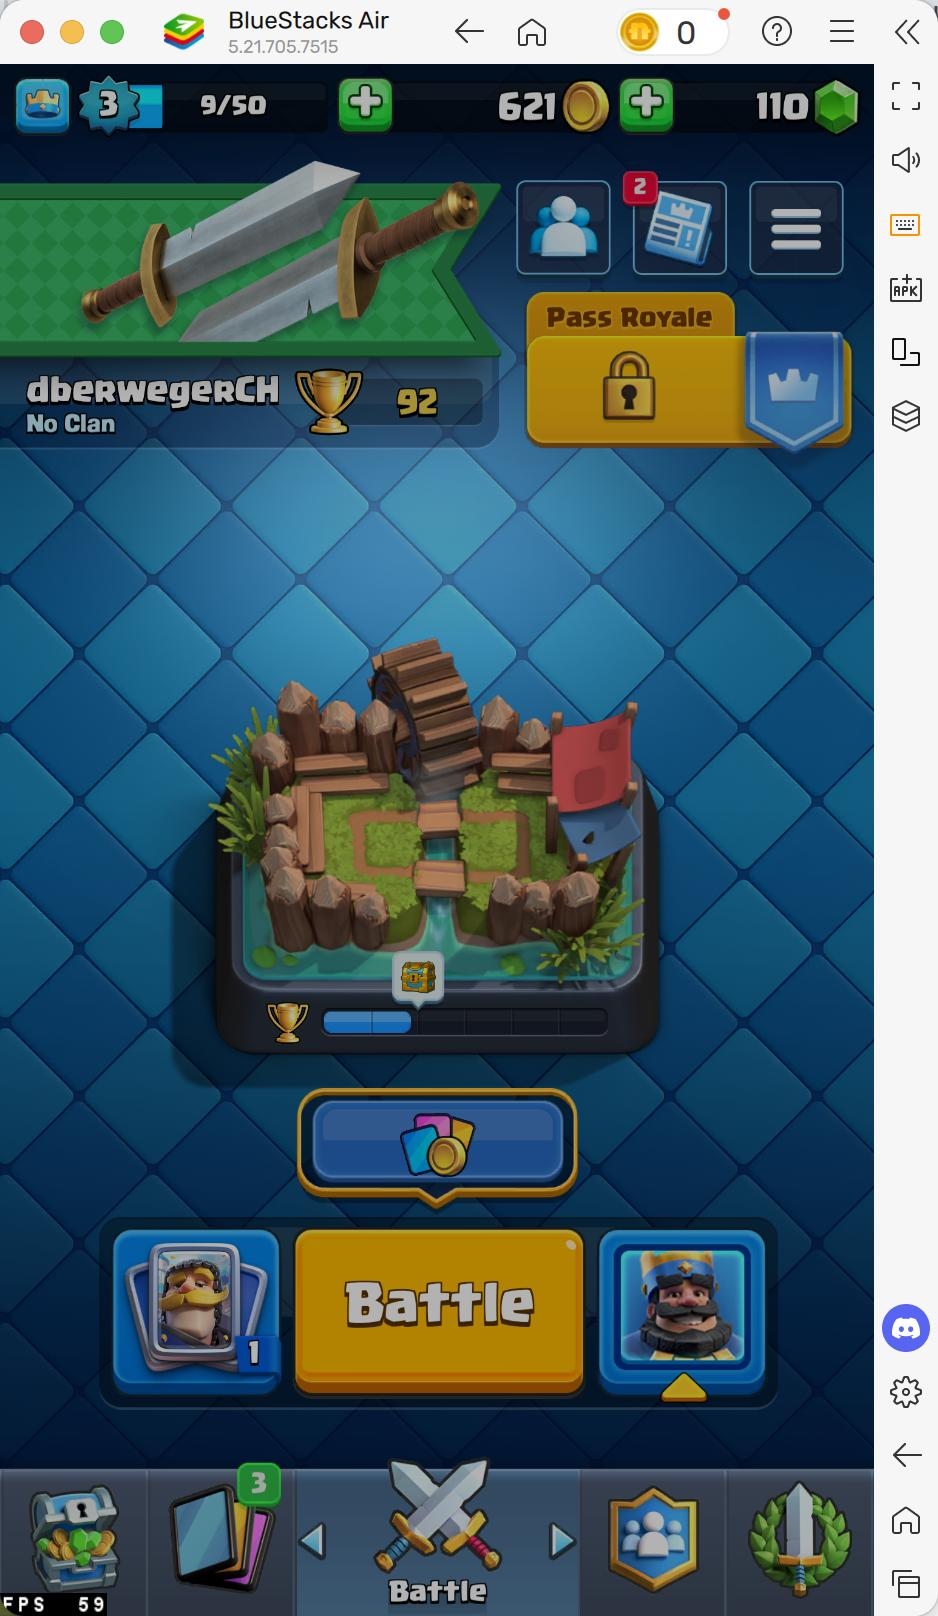Battle: (295, 1228, 583, 1386)
